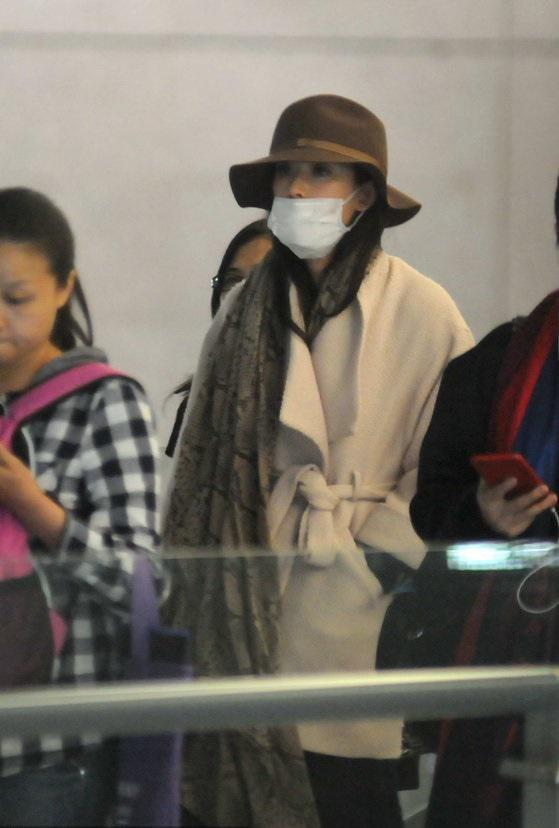NONE: (1, 267, 58, 365)
WRONG: (260, 153, 354, 247)
